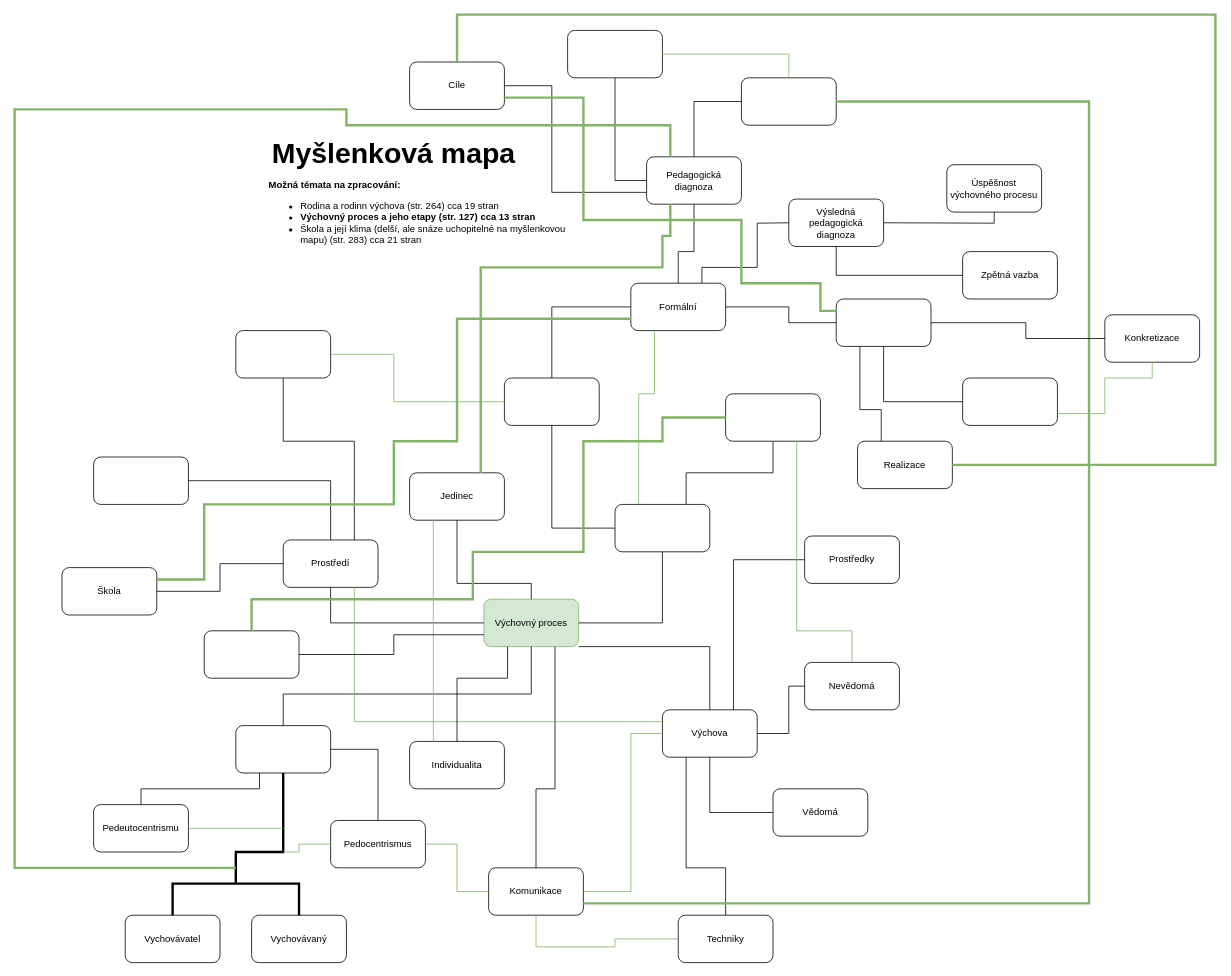
The diagram is 1231 pixels wide and 976 high, and some of its shapes have lost their labels. The shapes that lost their labels are listed below. From the top down, each one's box as (x1, y1, x2, y2) in pixels, then its label:
(567, 30, 662, 78): Rozhovory
(741, 77, 836, 125): Analýza
(835, 298, 931, 346): Pedagogické projketování
(235, 330, 331, 378): Kroužky/koníčky
(504, 377, 599, 425): Školské
(725, 393, 820, 441): Životní
(962, 377, 1057, 425): RVP
(93, 456, 188, 504): Rodina
(614, 504, 710, 552): Etapy
(203, 630, 299, 678): Nepodmíněný
(235, 725, 331, 773): Vztah
